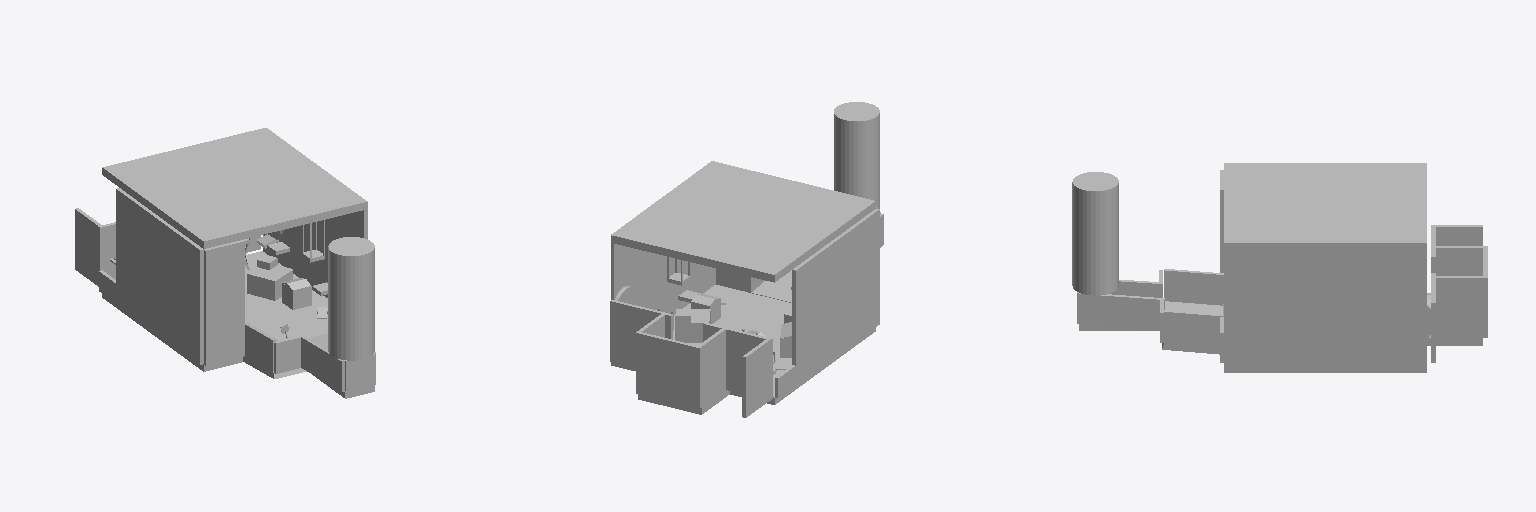
Rendered from Level1v4.obj.
3 renders of one model, left to right at view 1: azimuth 30°, elevation 25°; view 2: azimuth 150°, elevation 25°; view 3: azimuth 270°, elevation 25°, orthographic.
Parts seen in each view (by area): view 1: Cube.056, Cube.012, Cylinder, Cube.072, Cube.009, Cube.013, Cube.075, Cube.021, Cube.042, Cube.050, Cube.002, Cube.003 (+3 smaller); view 2: Cube.056, Cube.012, Cylinder, Cube.013, Cube.047, Cube.009, Cube.040, Cube.075, Cube.014, Cube.049, Cube.042, Cube.006 (+1 smaller); view 3: Cube.013, Cube.056, Cylinder, Cube.048, Cube.001, Cube.050, Cube.051, Cube.009, Cube.049, Cube.075, Cube.006, Cube.021.
Part boxes in pixels (bbox=[...]): Cube.056: bbox=[102, 128, 367, 248]; Cube.012: bbox=[116, 188, 203, 364]; Cylinder: bbox=[328, 237, 374, 360]; Cube.072: bbox=[204, 240, 244, 365]; Cube.009: bbox=[102, 251, 327, 371]; Cube.013: bbox=[263, 209, 367, 297]; Cube.075: bbox=[75, 208, 103, 285]; Cube.021: bbox=[301, 337, 344, 391]; Cube.042: bbox=[247, 265, 292, 300]; Cube.050: bbox=[245, 323, 276, 370]; Cube.002: bbox=[345, 353, 375, 391]; Cube.003: bbox=[274, 335, 304, 373]; Cube.056: bbox=[611, 161, 875, 282]; Cube.012: bbox=[792, 209, 879, 384]; Cylinder: bbox=[834, 102, 879, 208]; Cube.013: bbox=[611, 243, 715, 314]; Cube.047: bbox=[636, 331, 701, 408]; Cube.009: bbox=[611, 285, 875, 404]; Cube.040: bbox=[610, 300, 672, 367]; Cube.075: bbox=[742, 338, 771, 417]; Cube.014: bbox=[703, 322, 772, 400]; Cube.049: bbox=[699, 327, 726, 406]; Cube.042: bbox=[675, 309, 710, 342]; Cube.006: bbox=[748, 270, 791, 302]; Cube.013: bbox=[1224, 250, 1426, 364]; Cube.056: bbox=[1224, 163, 1426, 249]; Cylinder: bbox=[1072, 172, 1118, 295]; Cube.048: bbox=[1436, 276, 1482, 337]; Cube.001: bbox=[1079, 293, 1164, 329]; Cube.050: bbox=[1164, 269, 1223, 305]; Cube.051: bbox=[1164, 310, 1223, 346]; Cube.009: bbox=[1224, 365, 1426, 372]; Cube.049: bbox=[1431, 246, 1482, 275]; Cube.075: bbox=[1433, 225, 1482, 245]; Cube.006: bbox=[1162, 301, 1222, 354]; Cube.021: bbox=[1110, 280, 1158, 297].
Bounding box in the file's own units: 45.76 × 39.67 × 98.11.